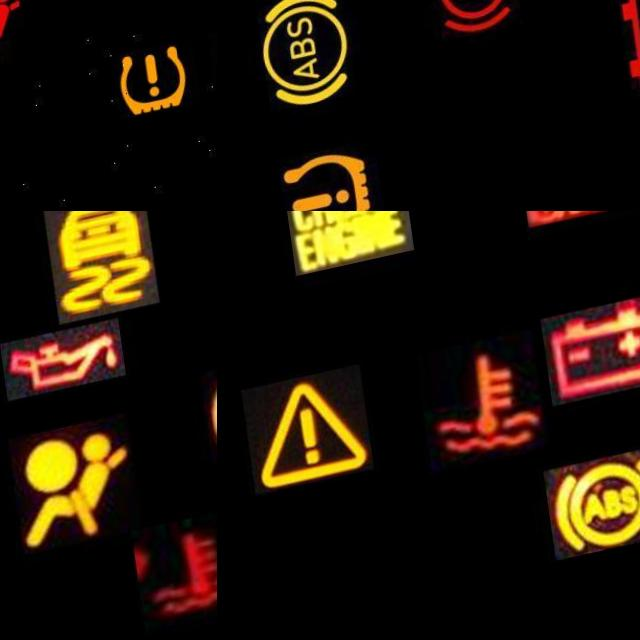Central Warning lamp: (231, 370, 360, 496)
Engine cooling system: (405, 343, 536, 482), (116, 516, 217, 636)
